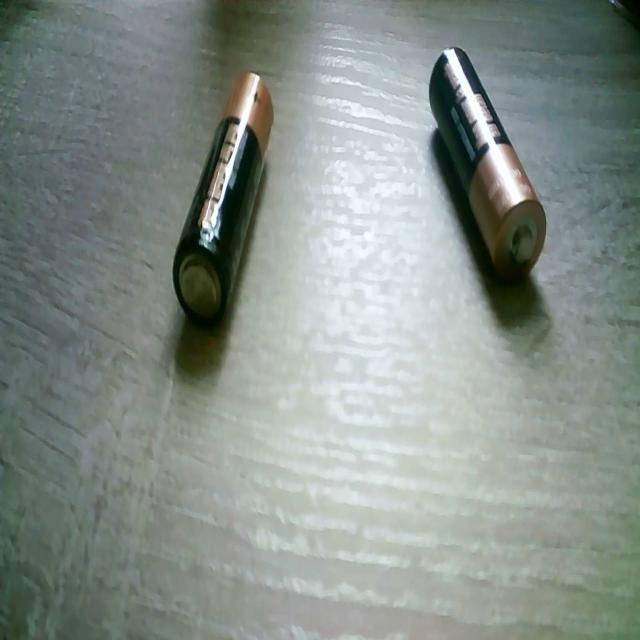AA: (428, 45, 547, 282), (171, 69, 274, 327)
